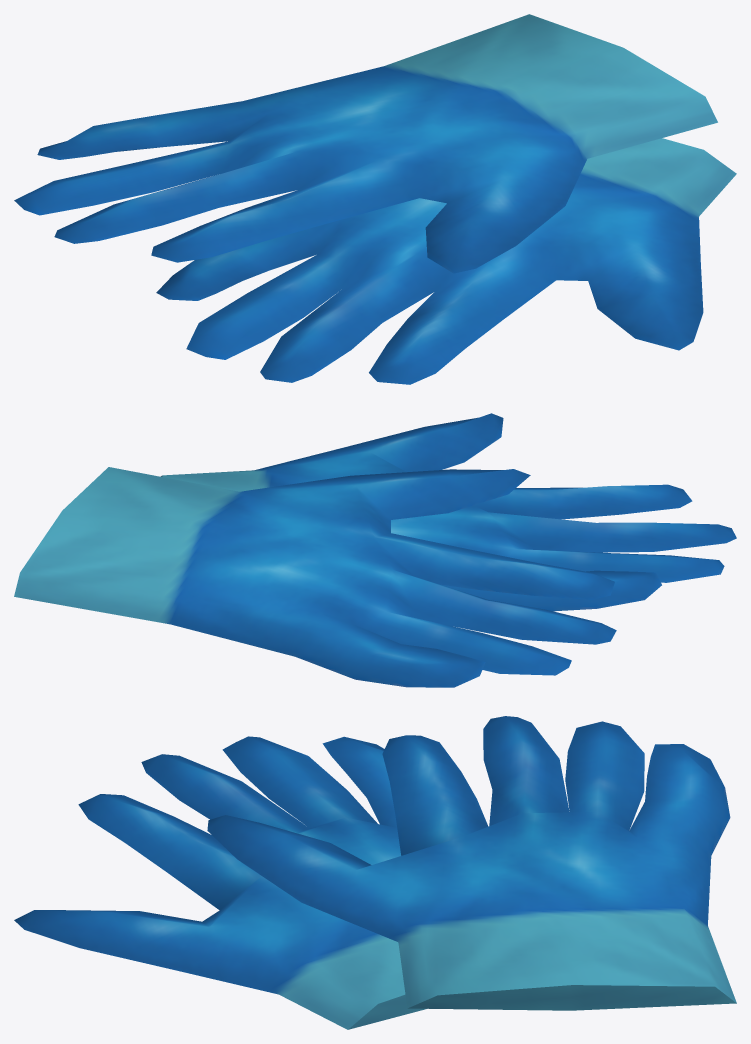
File: ShaShouJia_01_shoutao_01.FBX
3 renders of one model, top to bottom at view 1: azimuth 30°, elevation 25°; view 2: azimuth 150°, elevation 25°; view 3: azimuth 270°, elevation 25°, orthographic. The views are drawn at different scales.
Parts seen in each view (by area): view 1: ShaShouJia_01_shoutao_01; view 2: ShaShouJia_01_shoutao_01; view 3: ShaShouJia_01_shoutao_01.
Part boxes in pixels (x1=…): ShaShouJia_01_shoutao_01: x1=14, y1=14, x2=736, y2=384; ShaShouJia_01_shoutao_01: x1=14, y1=413, x2=736, y2=687; ShaShouJia_01_shoutao_01: x1=14, y1=716, x2=736, y2=1029.
Size of the model in its own units: 177 by 14.27 by 181.
